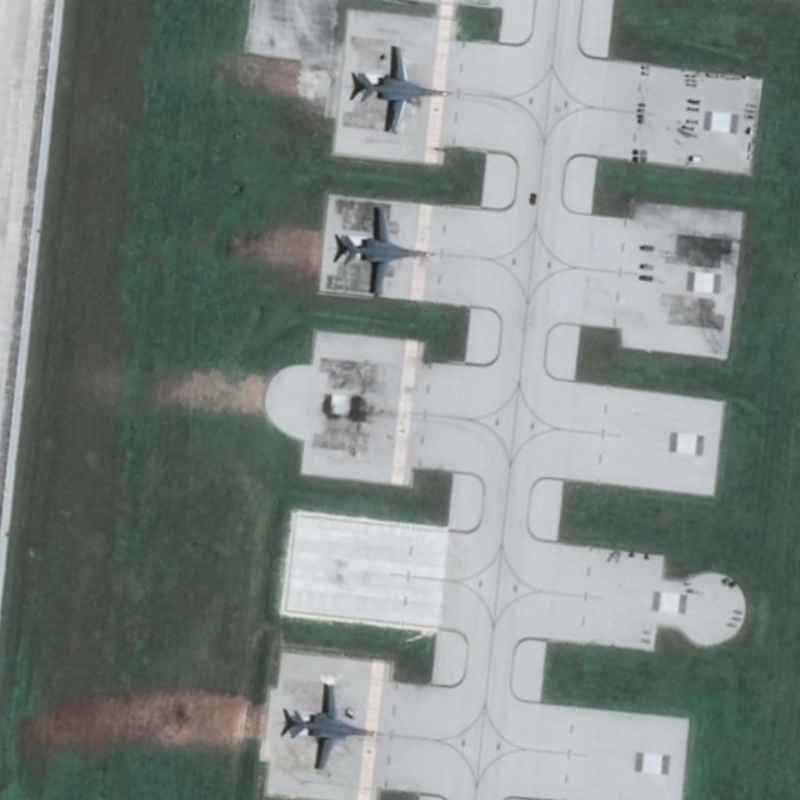A10: (348, 41, 454, 136), (339, 200, 435, 299), (284, 678, 382, 774)
